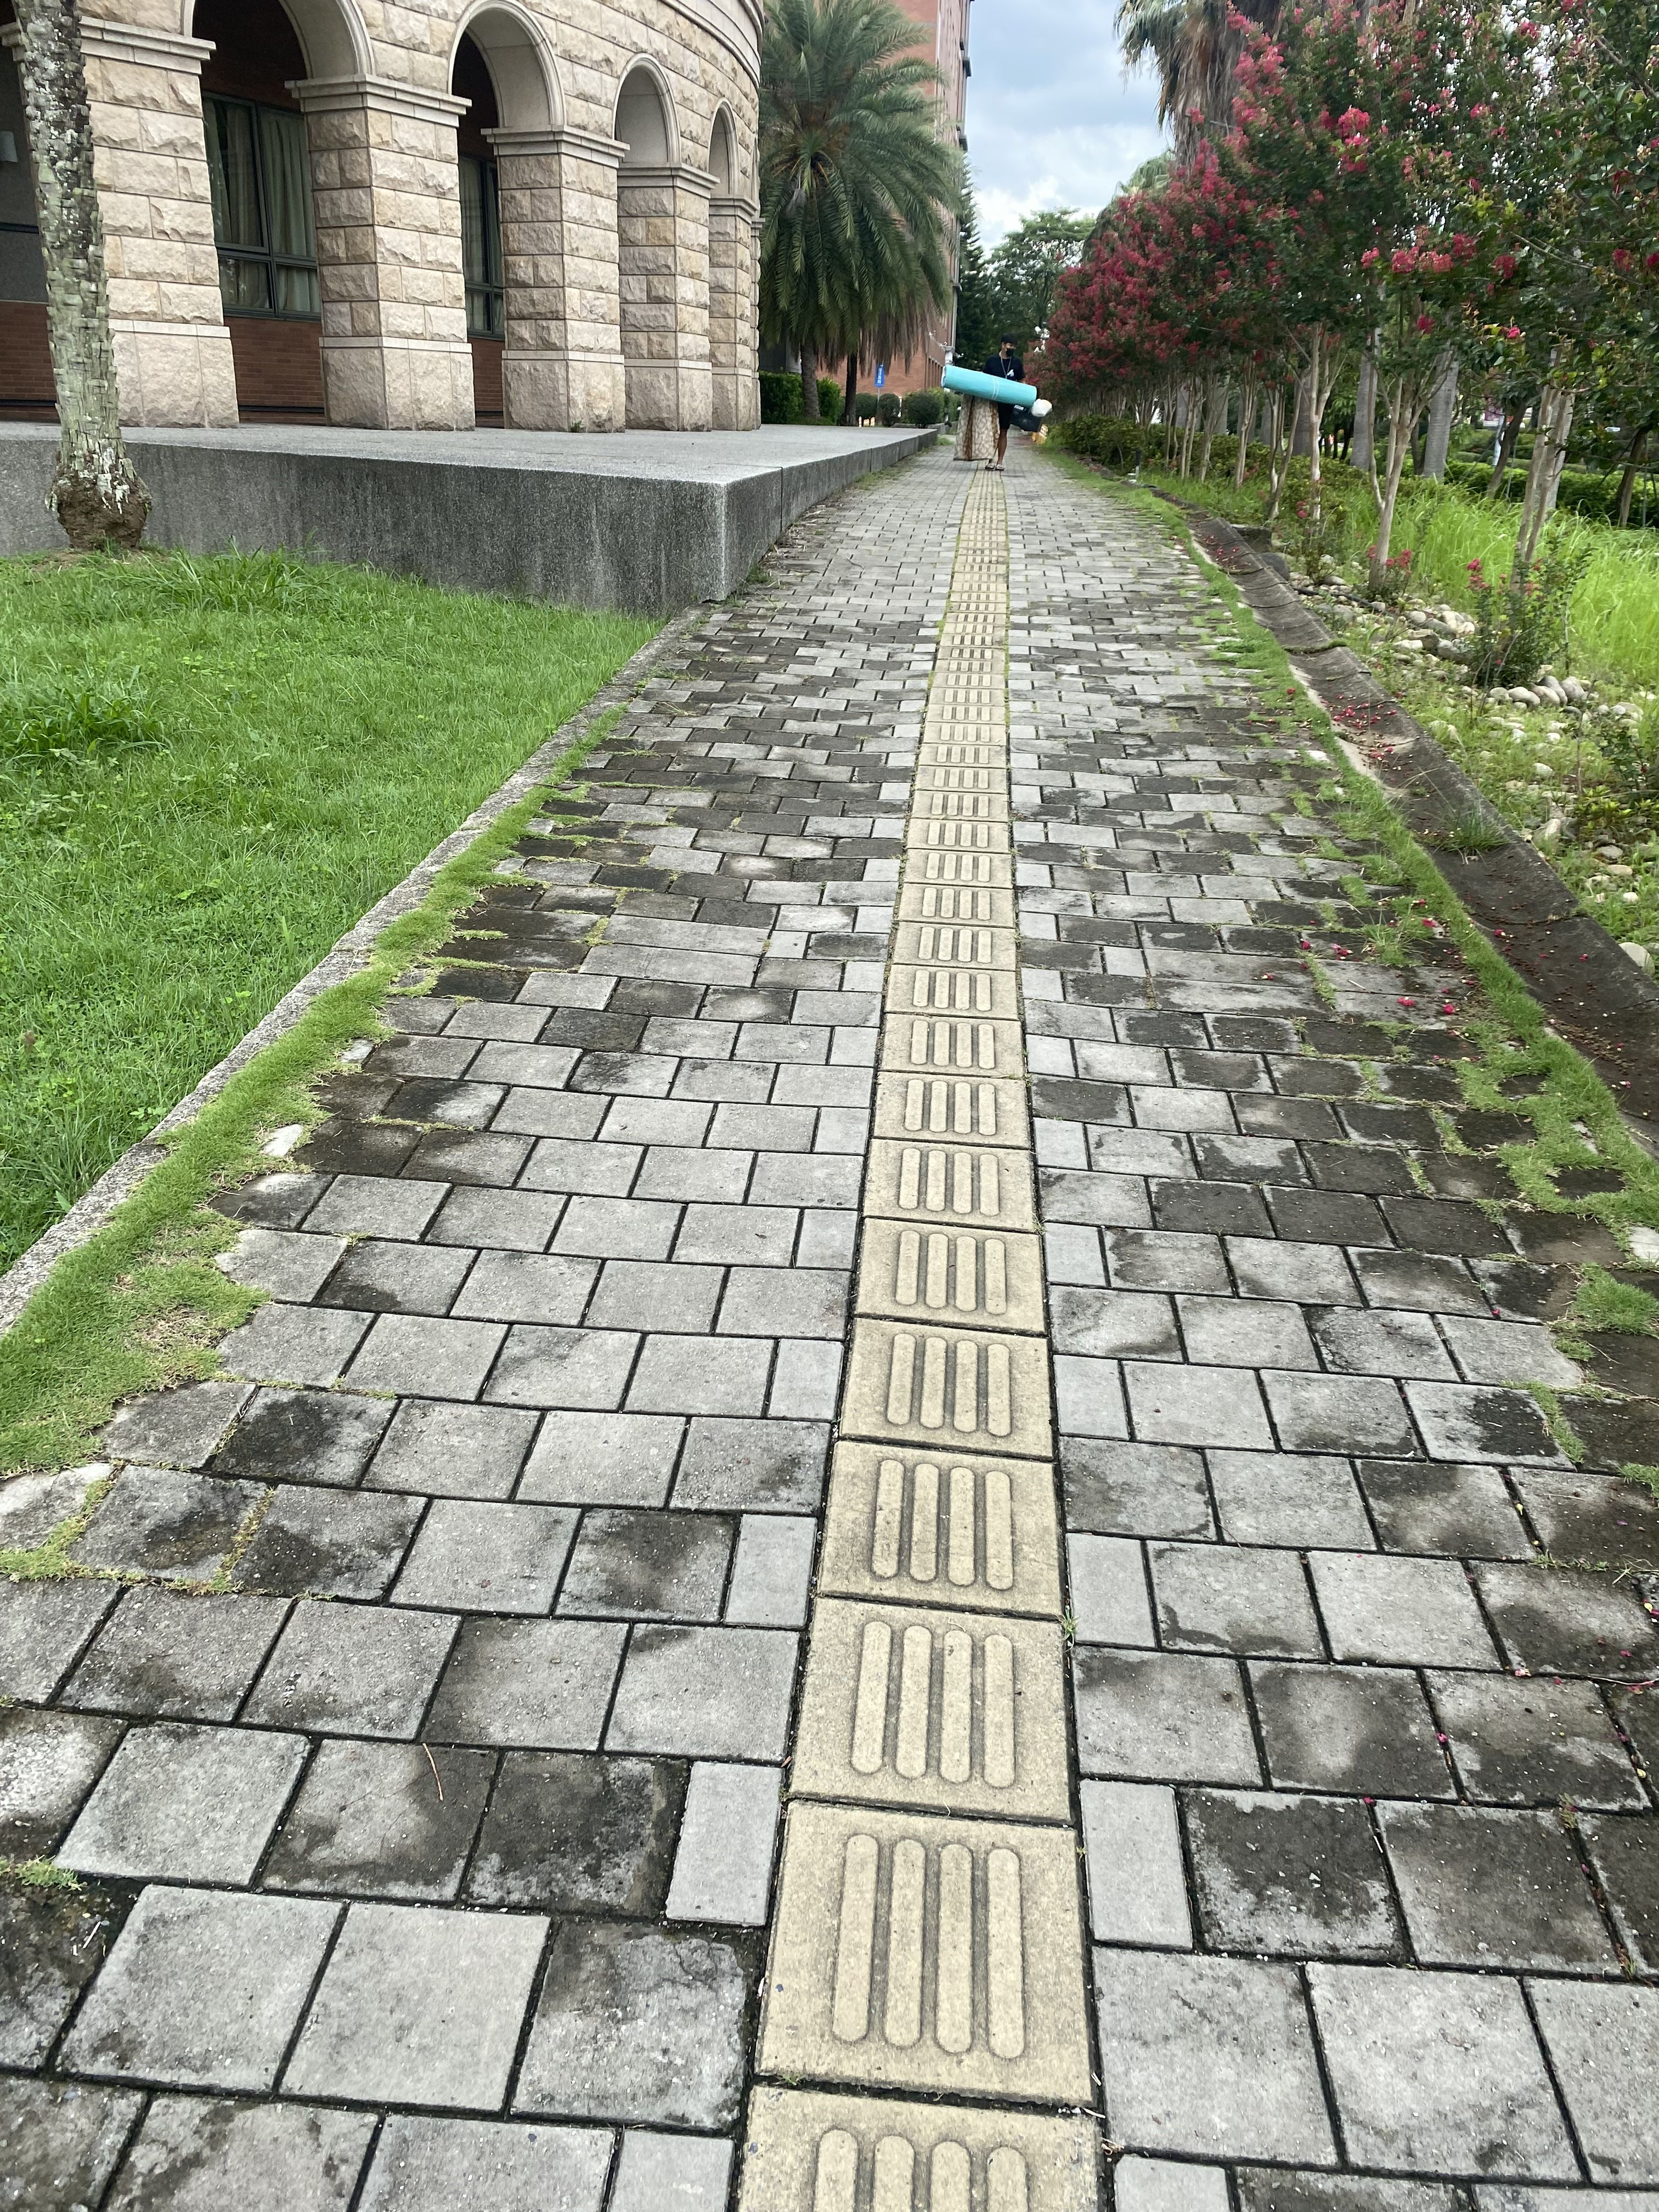sidewalk: (0, 442, 1659, 2212)
